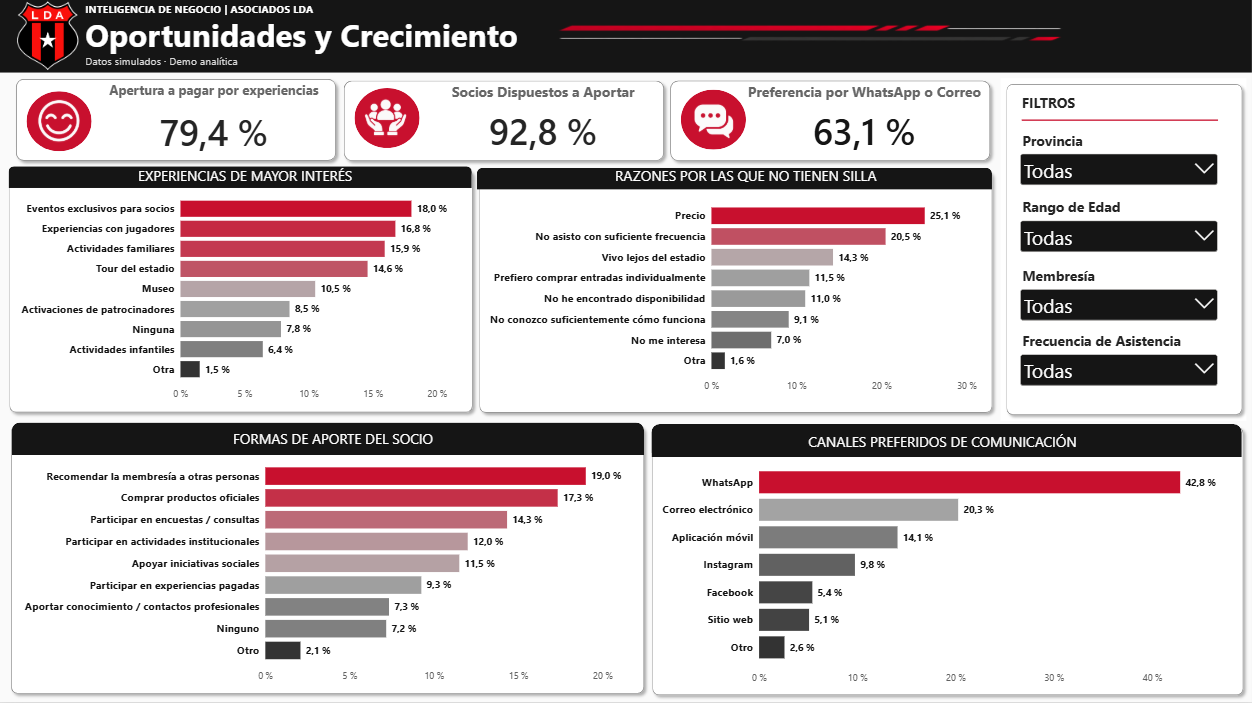

This screenshot's page, from the dashboard's own definition file:
{"tool":"powerbi","page":{"name":"Oportunidades y crecimiento","canvas":[1920,1080],"ordinal":2},"visuals":[{"type":"group","id":"g1","title":"Grupo 1","box":[1534.1,121.7,379.4,524.9],"z":0,"group":"g9"},{"type":"shape","title":"hdhhdhth","box":[1534.1,121.7,379.4,524.9],"z":0,"group":"g1"},{"type":"shape","title":"hdhhdhth","box":[7.2,252.9,727.7,391.3],"z":0,"group":"g2"},{"type":"group","id":"g2","title":"Grupo 1","box":[7.2,252.9,727.7,391.3],"z":0,"group":"g8"},{"type":"shape","title":"hdhhdhth","box":[726.8,255.3,803.8,389.2],"z":0,"group":"g3"},{"type":"group","id":"g3","title":"Grupo 1","box":[726.8,255.3,803.8,389.2],"z":0,"group":"g7"},{"type":"group","id":"g4","title":"Grupo 2","box":[9.5,644.2,987.8,429.5],"z":0},{"type":"shape","title":"hdhhdhth","box":[9.5,644.2,987.8,429.5],"z":0,"group":"g5"},{"type":"group","id":"g5","title":"Grupo 1","box":[9.5,644.2,987.8,429.5],"z":0,"group":"g4"},{"type":"shape","title":"hdhhdhth","box":[991.7,646.4,923.3,429.5],"z":0,"group":"g6"},{"type":"group","id":"g6","title":"Grupo 1","box":[991.7,646.4,923.3,429.5],"z":0,"group":"g10"},{"type":"group","id":"g7","title":"Grupo 2","box":[726.8,255.3,803.8,389.2],"z":1000},{"type":"shape","box":[15.6,257.6,710,33.5],"z":1000,"group":"g2"},{"type":"textbox","box":[200.4,257.6,355,33.5],"z":1000,"group":"g8"},{"type":"shape","box":[732,259.4,789.3,33.6],"z":1000,"group":"g3"},{"type":"shape","box":[19.4,649.2,968.8,50],"z":1000,"group":"g5"},{"type":"shape","box":[1000.4,650.7,904.5,50.6],"z":1000,"group":"g6"},{"type":"textbox","box":[349.4,658,324.5,31],"z":1000,"group":"g4"},{"type":"textbox","box":[1120.7,662.9,646.8,35.6],"z":1000,"group":"g10"},{"type":"group","id":"g8","title":"Grupo 2","box":[7.2,252.9,727.7,391.3],"z":2000},{"type":"shape","box":[1021.2,116.9,508.2,140.8],"z":3000},{"type":"textbox","box":[899.1,257.5,489.1,33.4],"z":3000,"group":"g7"},{"type":"shape","box":[520.1,116.9,508.2,140.8],"z":4000},{"type":"shape","box":[16.7,114.5,508.2,143.2],"z":5000},{"type":"shape","box":[0,0,1920.7,114],"z":6000},{"type":"textbox","box":[133.6,4.8,560.7,33.4],"z":7000},{"type":"textbox","box":[133.6,21.5,734.9,64.4],"z":8000},{"type":"textbox","box":[133.6,85.9,248.1,21.5],"z":9000},{"type":"cardVisual","title":"Apertura a pagar por experiencias","fields":{"Data":["EncuestaSociosTable.%_Apertura_Pago"]},"box":[152.7,126.5,348.3,112.1],"z":10000},{"type":"cardVisual","title":"Socios Dispuestos a Aportar","fields":{"Data":["EncuestaSociosTable.%_Socios_Dispuestos_Aportar"]},"box":[660.9,126.5,348.3,121.7],"z":11000},{"type":"shape","box":[42,143.5,100,92.3],"z":12000},{"type":"shape","box":[544.6,137.8,100,92.3],"z":13000},{"type":"shape","box":[1045,139.7,100,92.3],"z":14000},{"type":"group","id":"g9","title":"Grupo 2","box":[1534.1,121.7,379.4,524.9],"z":15000},{"type":"image","box":[7.2,0,133.6,121.7],"z":16000},{"type":"group","id":"g10","title":"Grupo 2","box":[991.7,646.4,923.3,429.5],"z":17000},{"type":"slicer","fields":{"Values":["EncuestaSociosTable.Provincia"]},"box":[1560.4,203.6,312.6,116.9],"z":18000},{"type":"slicer","fields":{"Values":["EncuestaSociosTable.Rango_Edad"]},"box":[1560.4,303.8,312.6,116.9],"z":19000},{"type":"slicer","fields":{"Values":["EncuestaSociosTable.Membresia"]},"box":[1560.4,408.8,312.6,116.9],"z":20000},{"type":"slicer","fields":{"Values":["EncuestaSociosTable.Frecuencia_Estadio"]},"box":[1560.4,509,312.6,116.9],"z":21000},{"type":"image","box":[844.6,0,796.9,114.5],"z":22000},{"type":"cardVisual","title":"Preferencia por WhatsApp o Correo","fields":{"Data":["EncuestaSociosTable.%_Canales_Directos"]},"box":[1142.9,126.5,367.4,121.7],"z":23000},{"type":"textbox","box":[1567.5,145.5,272,42.9],"z":24000},{"type":"shape","box":[1567.5,174.2,300.6,23.9],"z":25000},{"type":"clusteredBarChart","fields":{"Category":["EncuestaSociosTable.Tipo_Aporte"],"Y":["EncuestaSociosTable.%_Respuestas_Tipo_Aporte"]},"box":[21.5,696.7,963.9,372.2],"z":26000},{"type":"image","box":[54.9,121.7,76,133],"z":27000},{"type":"clusteredBarChart","fields":{"Category":["EncuestaSociosTable.Experiencia_Interes"],"Y":["EncuestaSociosTable.%_Respuestas_Experiencia"]},"box":[16.5,290.9,701.7,346.6],"z":28000},{"type":"clusteredBarChart","fields":{"Category":["EncuestaSociosTable.Motivo_Sin_Silla"],"Y":["EncuestaSociosTable.%_Respuestas_Motivo_Silla"]},"box":[734.9,300.6,780.2,324.5],"z":29000},{"type":"clusteredBarChart","fields":{"Category":["EncuestaSociosTable.Canal_Preferido"],"Y":["EncuestaSociosTable.%_Respuestas_Canal"]},"box":[1000,701.2,897.1,372.2],"z":30000},{"type":"image","box":[555.9,116.9,76,133],"z":31000},{"type":"image","box":[1057,121.7,76,133],"z":32000}]}

Visuals, with their boxes in screenshot pixels (x1, y1, x2, y2), scaled from the page's 1920x1080 canvas onto the 1252x703 screenshot:
"Grupo 1" group: region(1000, 79, 1248, 421)
"hdhhdhth" shape: region(1000, 79, 1248, 421)
"hdhhdhth" shape: region(5, 165, 479, 419)
"Grupo 1" group: region(5, 165, 479, 419)
"hdhhdhth" shape: region(474, 166, 998, 420)
"Grupo 1" group: region(474, 166, 998, 420)
"Grupo 2" group: region(6, 419, 650, 699)
"hdhhdhth" shape: region(6, 419, 650, 699)
"Grupo 1" group: region(6, 419, 650, 699)
"hdhhdhth" shape: region(647, 421, 1249, 700)
"Grupo 1" group: region(647, 421, 1249, 700)
"Grupo 2" group: region(474, 166, 998, 420)
shape: region(10, 168, 473, 189)
textbox: region(131, 168, 362, 189)
shape: region(477, 169, 992, 191)
shape: region(13, 423, 644, 455)
shape: region(652, 424, 1242, 456)
textbox: region(228, 428, 439, 448)
textbox: region(731, 431, 1153, 455)
"Grupo 2" group: region(5, 165, 479, 419)
shape: region(666, 76, 997, 168)
textbox: region(586, 168, 905, 189)
shape: region(339, 76, 671, 168)
shape: region(11, 75, 342, 168)
shape: region(0, 0, 1251, 74)
textbox: region(87, 3, 453, 25)
textbox: region(87, 14, 566, 56)
textbox: region(87, 56, 249, 70)
"Apertura a pagar por experiencias" cardVisual: region(100, 82, 327, 155)
"Socios Dispuestos a Aportar" cardVisual: region(431, 82, 658, 162)
shape: region(27, 93, 93, 153)
shape: region(355, 90, 420, 150)
shape: region(681, 91, 747, 151)
"Grupo 2" group: region(1000, 79, 1248, 421)
image: region(5, 0, 92, 79)
"Grupo 2" group: region(647, 421, 1249, 700)
slicer - EncuestaSociosTable.Provincia: region(1018, 133, 1221, 209)
slicer - EncuestaSociosTable.Rango_Edad: region(1018, 198, 1221, 274)
slicer - EncuestaSociosTable.Membresia: region(1018, 266, 1221, 342)
slicer - EncuestaSociosTable.Frecuencia_Estadio: region(1018, 331, 1221, 407)
image: region(551, 0, 1070, 75)
"Preferencia por WhatsApp o Correo" cardVisual: region(745, 82, 985, 162)
textbox: region(1022, 95, 1200, 123)
shape: region(1022, 113, 1218, 129)
clusteredBarChart - EncuestaSociosTable.Tipo_Aporte x EncuestaSociosTable.%_Respuestas_Tipo_Aporte: region(14, 454, 643, 696)
image: region(36, 79, 85, 166)
clusteredBarChart - EncuestaSociosTable.Experiencia_Interes x EncuestaSociosTable.%_Respuestas_Experiencia: region(11, 189, 468, 415)
clusteredBarChart - EncuestaSociosTable.Motivo_Sin_Silla x EncuestaSociosTable.%_Respuestas_Motivo_Silla: region(479, 196, 988, 407)
clusteredBarChart - EncuestaSociosTable.Canal_Preferido x EncuestaSociosTable.%_Respuestas_Canal: region(652, 456, 1237, 699)
image: region(362, 76, 412, 163)
image: region(689, 79, 739, 166)
